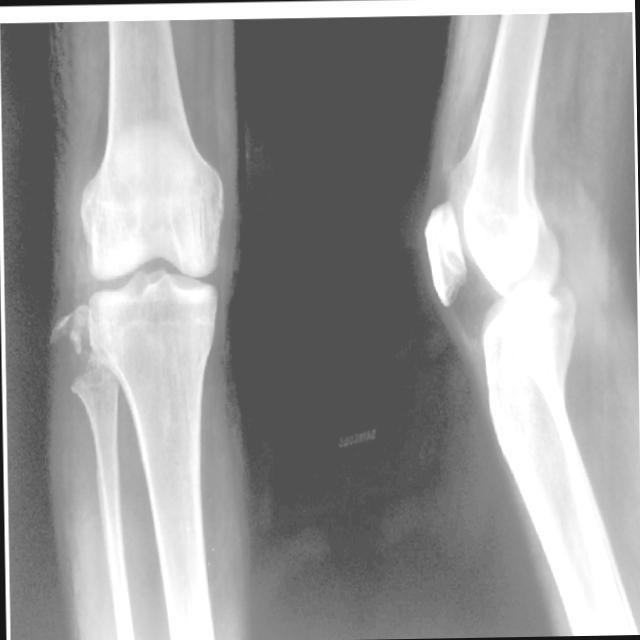Avlusion Fracture: (53, 296, 97, 360)
